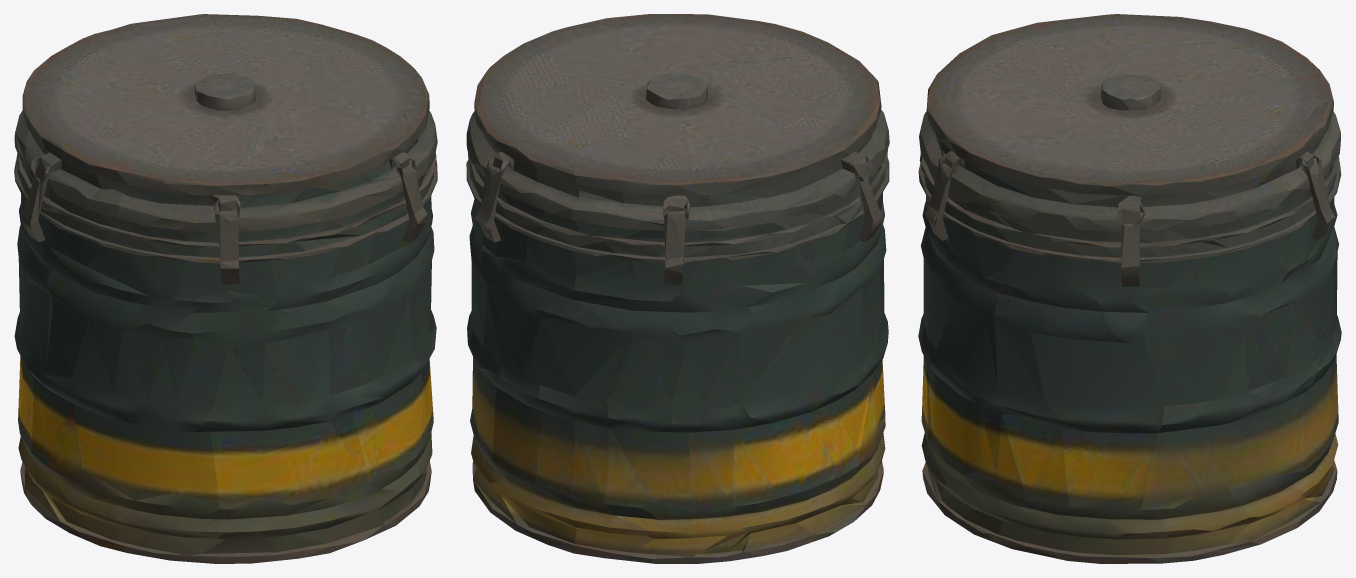
File: colis_fut.glb
3 views of the same model, side by side, from view 1: azimuth 30°, elevation 25°; view 2: azimuth 150°, elevation 25°; view 3: azimuth 270°, elevation 25° (orthographic).
Size of the model in its own units: 1.9 by 1.79 by 1.74.
Materials: 1 (1 with a texture image).
